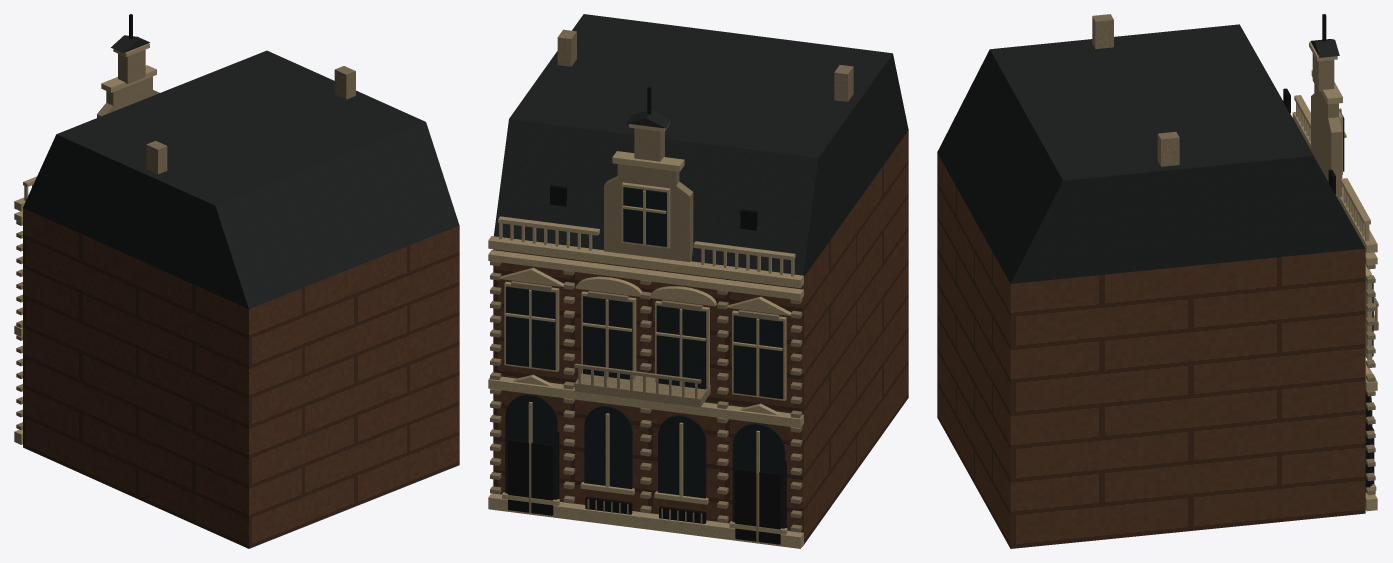
3 views of the same model, side by side, from view 1: azimuth 30°, elevation 25°; view 2: azimuth 150°, elevation 25°; view 3: azimuth 270°, elevation 25° (orthographic). The views are drawn at different scales.
Visible parts, largest first — view 1: woonhuis-van-beekum-0, woonhuis-van-beekum-1, woonhuis-van-beekum-3, woonhuis-van-beekum-2; view 2: woonhuis-van-beekum-1, woonhuis-van-beekum-0, woonhuis-van-beekum-2, woonhuis-van-beekum-4, woonhuis-van-beekum-3, woonhuis-van-beekum-5; view 3: woonhuis-van-beekum-0, woonhuis-van-beekum-1, woonhuis-van-beekum-3, woonhuis-van-beekum-2, woonhuis-van-beekum-5.
Boxes of the visible parts, bbox=[...] form: woonhuis-van-beekum-0: bbox=[23, 208, 459, 548]; woonhuis-van-beekum-1: bbox=[23, 35, 459, 308]; woonhuis-van-beekum-3: bbox=[16, 49, 355, 429]; woonhuis-van-beekum-2: bbox=[14, 43, 156, 444]; woonhuis-van-beekum-1: bbox=[494, 14, 908, 276]; woonhuis-van-beekum-0: bbox=[493, 130, 908, 546]; woonhuis-van-beekum-2: bbox=[488, 123, 803, 548]; woonhuis-van-beekum-4: bbox=[505, 187, 785, 528]; woonhuis-van-beekum-3: bbox=[490, 29, 853, 542]; woonhuis-van-beekum-5: bbox=[508, 86, 786, 544]; woonhuis-van-beekum-0: bbox=[937, 153, 1365, 548]; woonhuis-van-beekum-1: bbox=[937, 24, 1365, 283]; woonhuis-van-beekum-3: bbox=[1092, 14, 1378, 495]; woonhuis-van-beekum-2: bbox=[1292, 42, 1377, 511]; woonhuis-van-beekum-5: bbox=[1283, 14, 1374, 492].
Size of the model in its own units: 12.56 by 15.05 by 13.9.
6 materials, 6 textured.
